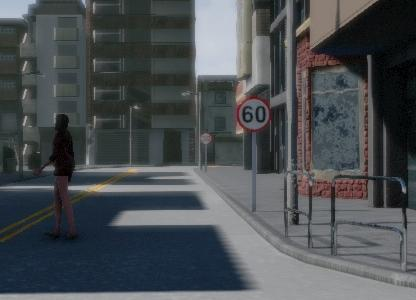Speed_60: (288, 84, 339, 132)
